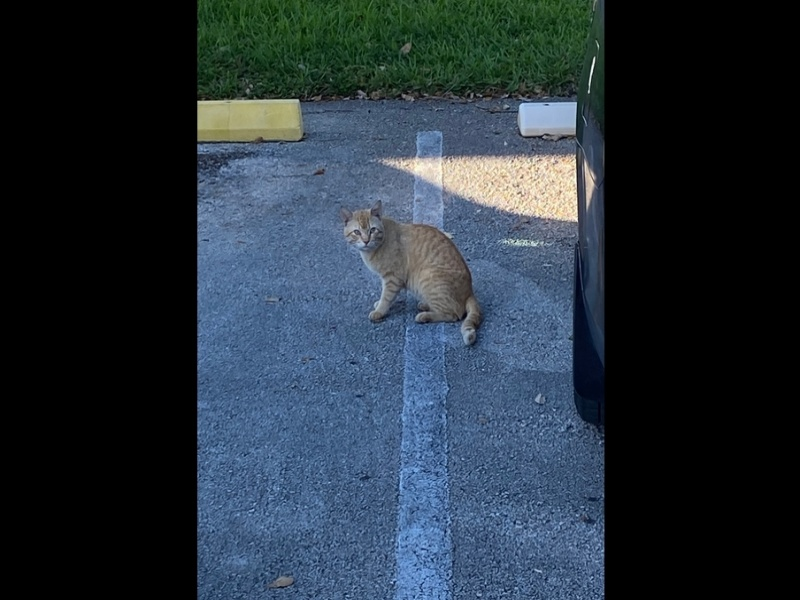cat: (341, 198, 485, 349)
